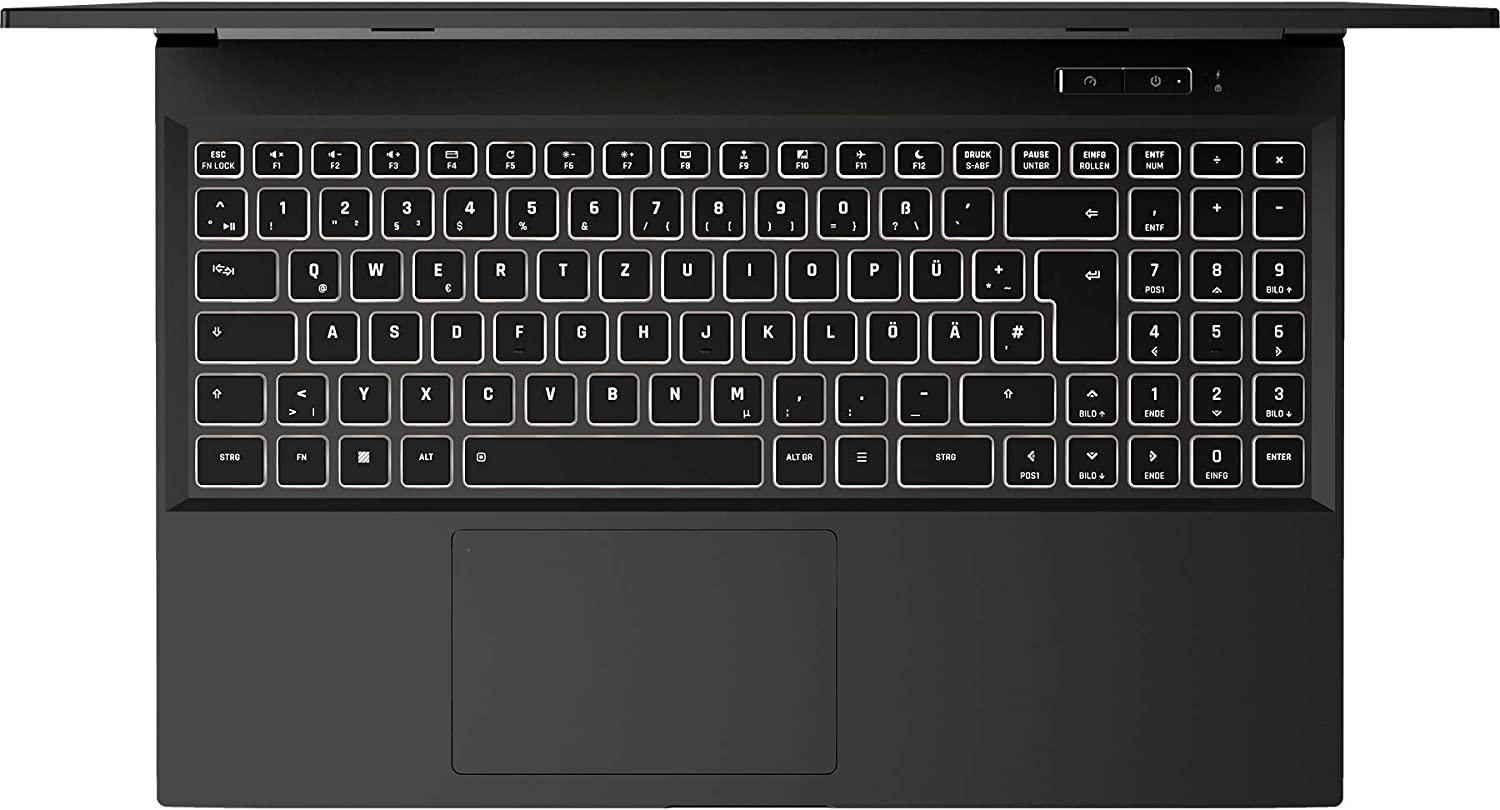0: (813, 182, 868, 235)
1: (253, 182, 307, 235)
2: (315, 182, 369, 235)
3: (377, 182, 431, 235)
4: (441, 182, 494, 234)
5: (502, 182, 556, 235)
6: (565, 182, 620, 235)
7: (627, 183, 680, 236)
8: (688, 182, 743, 236)
9: (750, 182, 805, 235)
a: (303, 307, 357, 359)
accent: (938, 183, 991, 234)
ae: (925, 306, 979, 359)
alt-left: (397, 431, 450, 483)
altgr-right: (770, 431, 823, 483)
b: (582, 368, 637, 421)
c: (459, 368, 512, 421)
caret: (190, 182, 244, 234)
comma: (770, 368, 822, 421)
d: (428, 306, 481, 359)
del: (1000, 182, 1115, 235)
e: (409, 244, 462, 297)
enter: (1030, 242, 1115, 358)
f: (491, 306, 543, 358)
g: (552, 306, 605, 358)
h: (614, 306, 667, 358)
hash: (987, 306, 1041, 358)
i: (720, 245, 773, 296)
j: (676, 306, 729, 359)
k: (739, 305, 792, 359)
keyboard: (166, 110, 1328, 503)
l: (801, 306, 854, 358)
less: (272, 369, 326, 421)
m: (707, 368, 762, 422)
minus: (894, 369, 947, 420)
n: (645, 368, 699, 421)
o: (782, 245, 835, 296)
oe: (863, 306, 916, 358)
p: (845, 244, 898, 296)
plus: (968, 243, 1022, 296)
point: (832, 369, 885, 421)
q: (284, 244, 338, 297)
r: (472, 245, 525, 297)
s: (365, 306, 419, 359)
shift-left: (190, 369, 262, 421)
shift-lock: (190, 306, 293, 358)
shift-right: (955, 369, 1053, 421)
space: (458, 430, 760, 484)
ss: (875, 182, 929, 235)
strg-left: (190, 430, 264, 483)
strg-right: (893, 431, 993, 483)
t: (534, 244, 586, 296)
tab: (189, 245, 274, 297)
u: (658, 244, 711, 297)
ue: (906, 244, 960, 297)
v: (522, 367, 575, 420)
w: (347, 244, 401, 297)
x: (398, 368, 450, 421)
y: (335, 369, 388, 421)
z: (596, 244, 648, 297)
